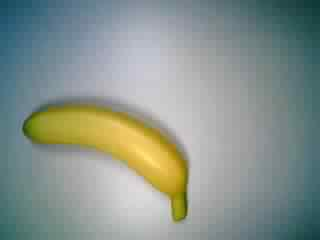banana: (23, 98, 194, 223)
